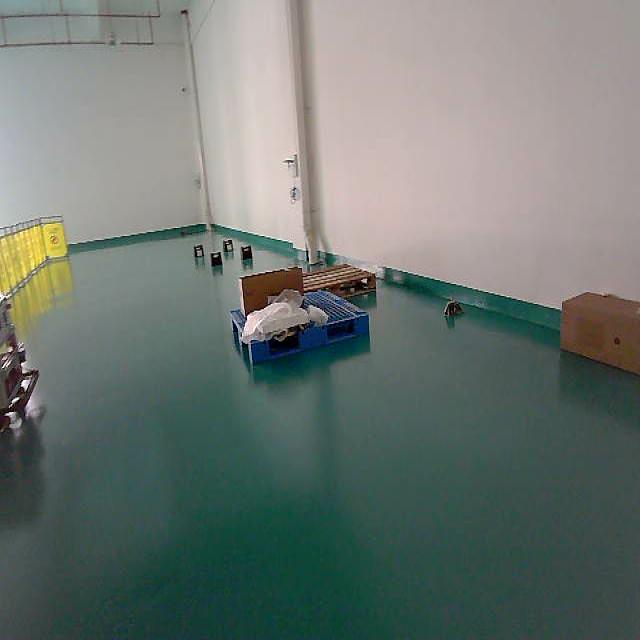euro: (303, 264, 376, 299)
